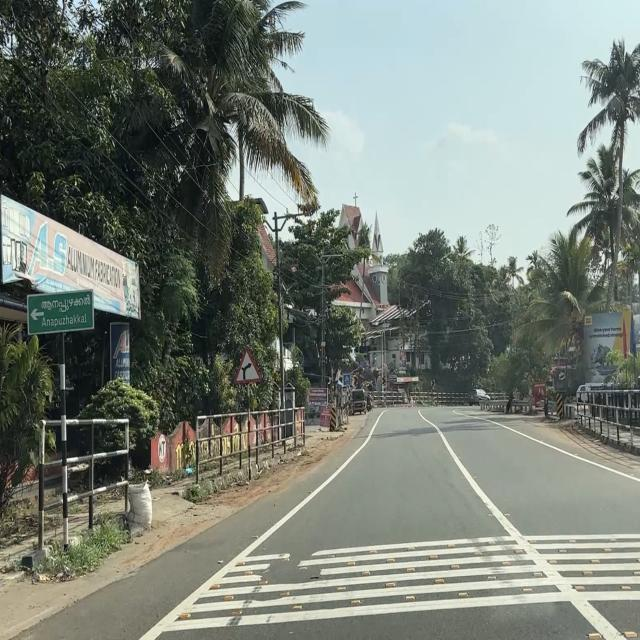GENERAL: (26, 287, 96, 338)
RIGHT_TURN_AHEAD: (233, 346, 260, 387)
